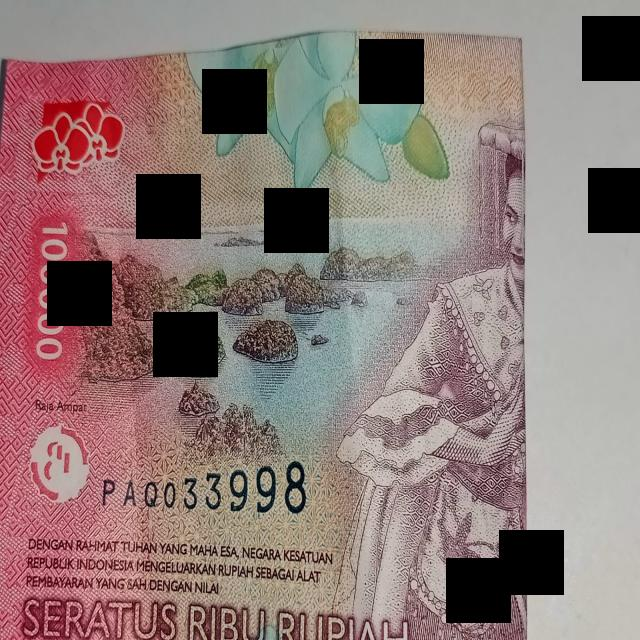seratusribu rupiah: (0, 32, 526, 638)
